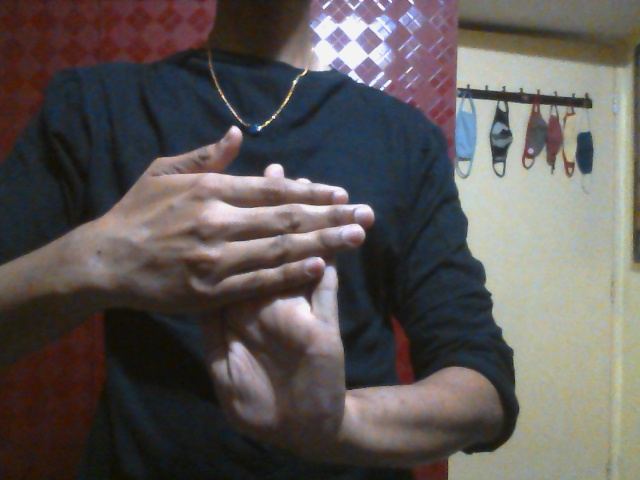H: (110, 126, 378, 452)
